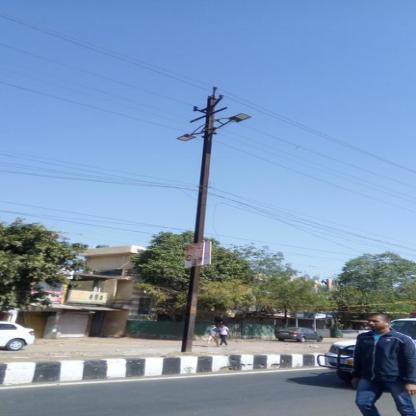Electrical Pole: (151, 86, 247, 358)
